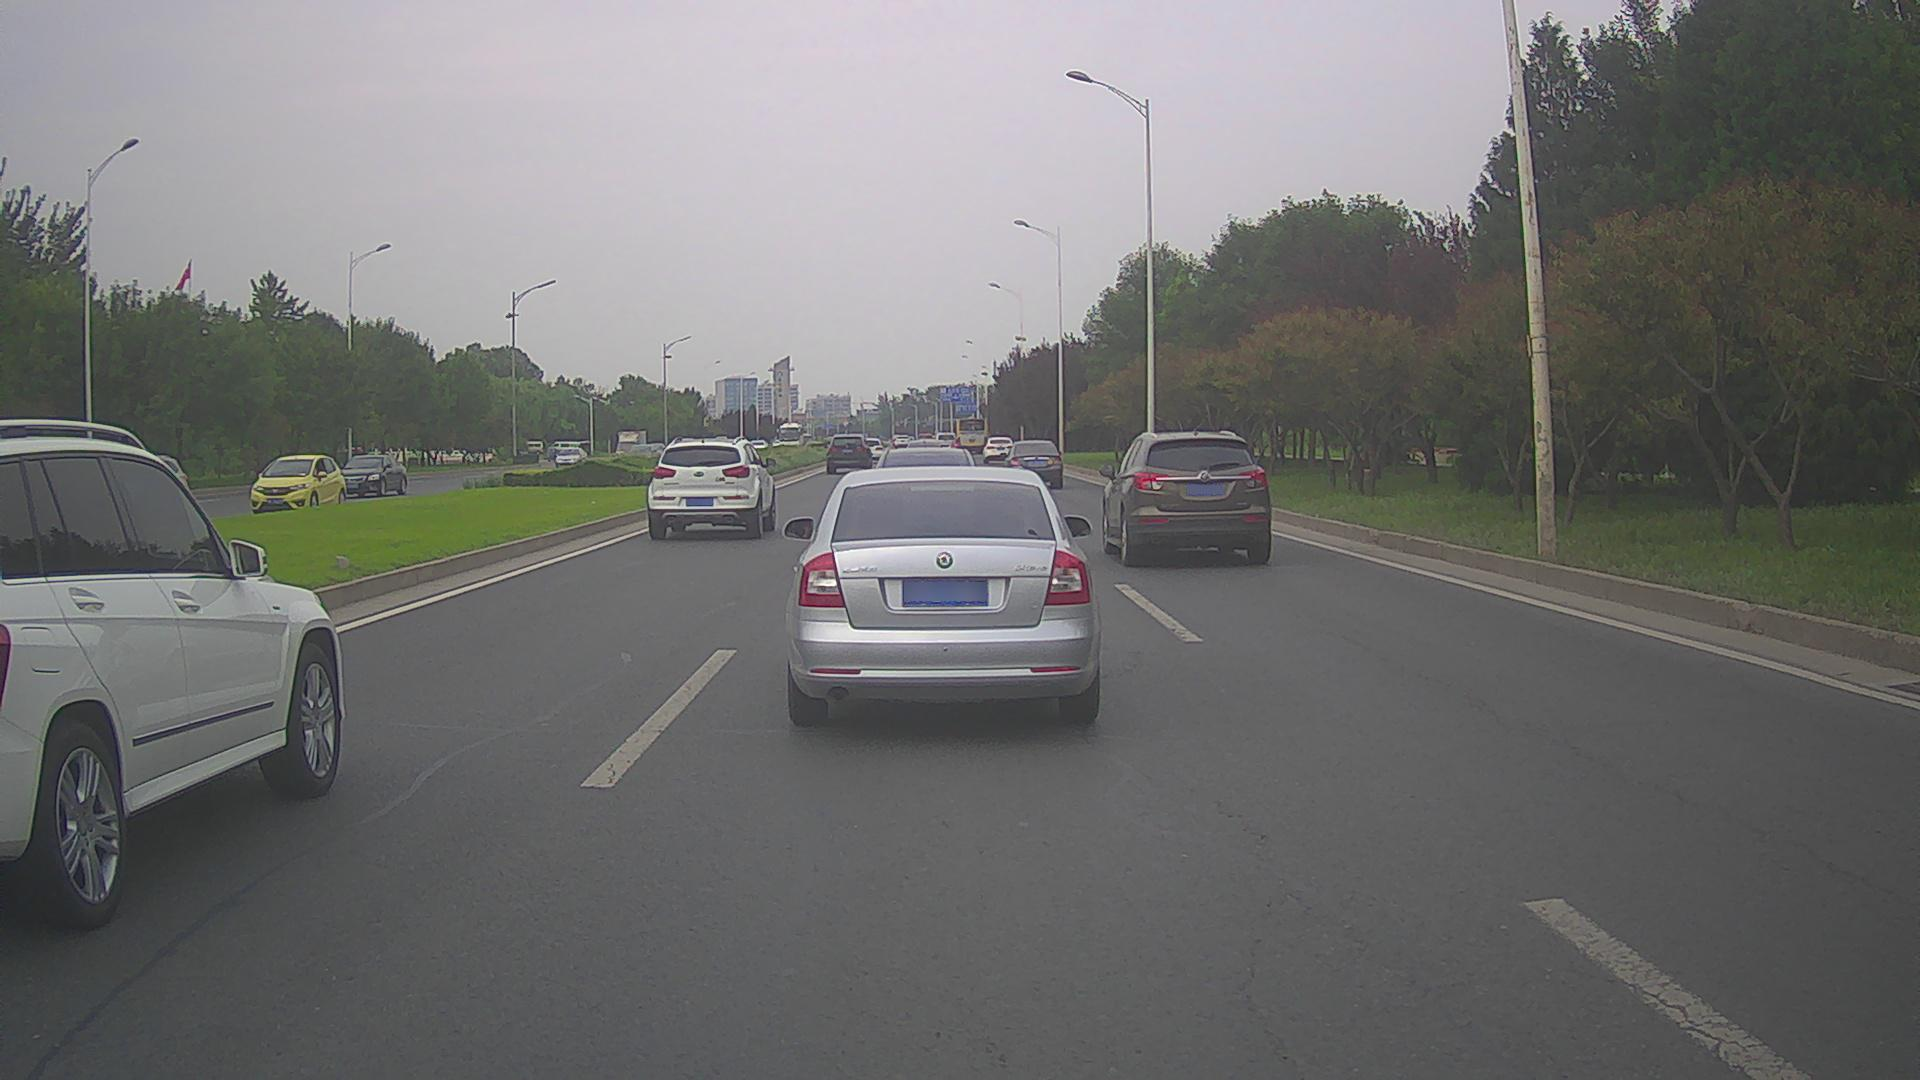bus: (953, 415, 989, 455), (777, 419, 802, 450)
car: (0, 418, 345, 935), (781, 463, 1098, 731), (1098, 429, 1273, 568), (644, 434, 778, 541), (248, 454, 347, 517), (1004, 438, 1065, 491), (336, 454, 407, 498), (822, 433, 873, 475), (980, 434, 1017, 465), (856, 436, 886, 462), (554, 446, 588, 467), (748, 439, 769, 455)
ignore: (874, 433, 976, 465), (628, 442, 665, 458), (545, 442, 558, 463), (800, 433, 814, 444)
truck: (616, 429, 647, 462)
van: (547, 439, 591, 462), (512, 439, 543, 456)
